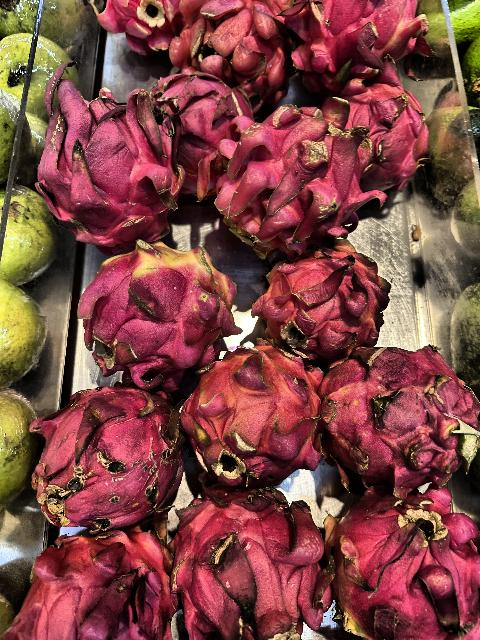buah-naga-belum-matang: (314, 486, 480, 640), (76, 236, 234, 384), (182, 348, 326, 489), (287, 0, 441, 94), (172, 0, 294, 110), (258, 261, 390, 355)
buah-naga-matang: (28, 54, 184, 246), (312, 330, 480, 490), (218, 98, 386, 256), (22, 370, 182, 524), (173, 484, 327, 640), (5, 514, 175, 640), (144, 70, 260, 198), (323, 73, 435, 184)
